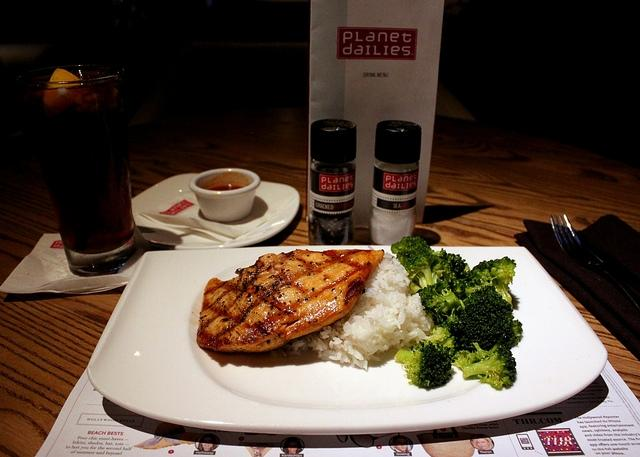broccoli: (448, 286, 522, 351), (394, 340, 455, 389), (464, 256, 516, 309), (419, 278, 465, 328), (462, 348, 516, 390), (431, 248, 470, 301), (402, 252, 446, 289), (391, 236, 432, 266), (426, 321, 459, 358), (450, 348, 478, 372)
